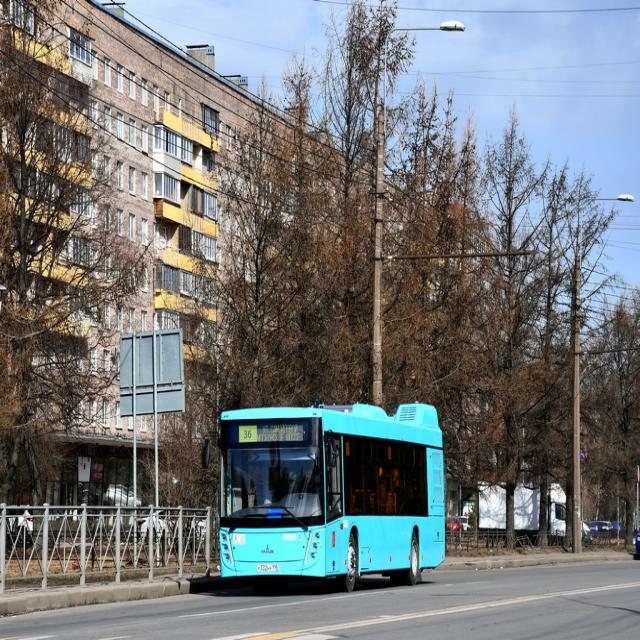number-of-bus: (243, 429, 255, 441)
